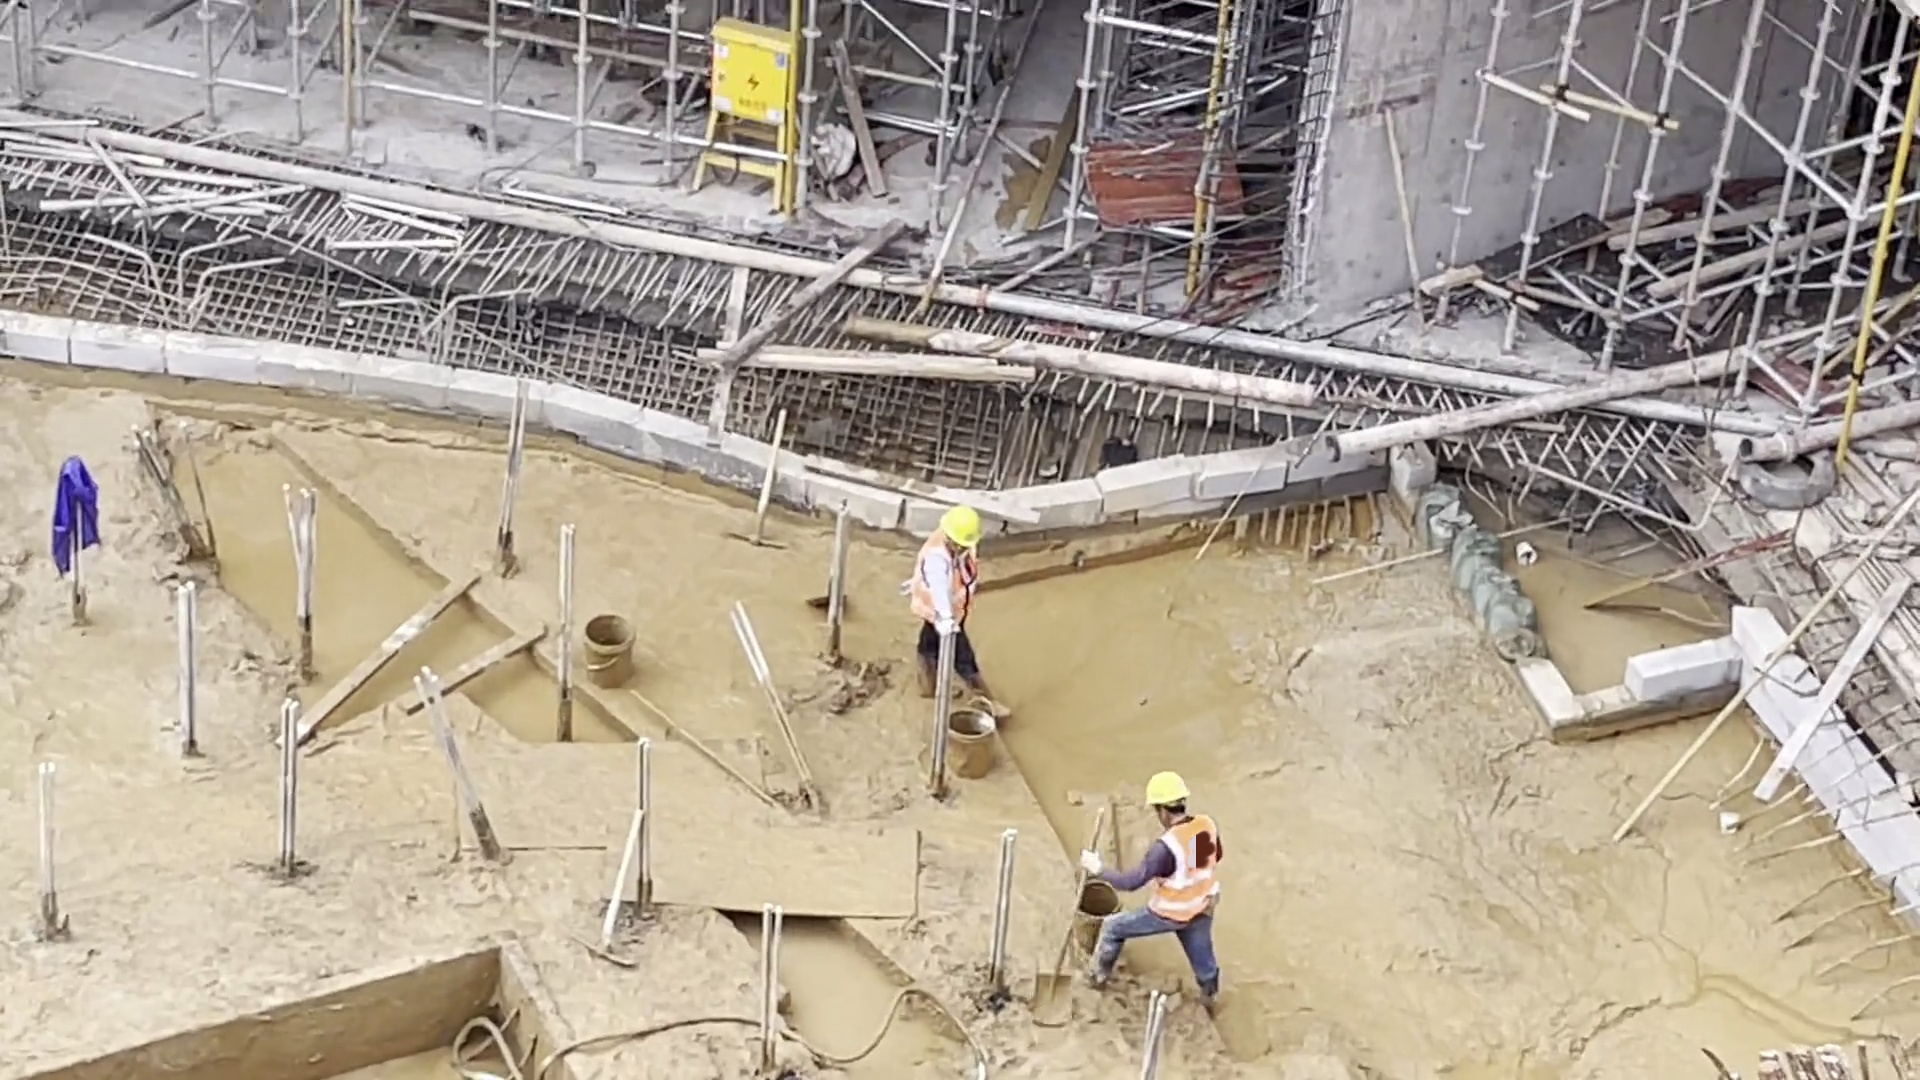ebox: (687, 15, 797, 211)
helmet: (941, 507, 983, 551), (1144, 770, 1190, 806)
person: (1082, 763, 1228, 1008), (908, 506, 1008, 732)
vest: (1149, 806, 1220, 921), (910, 528, 980, 632)
